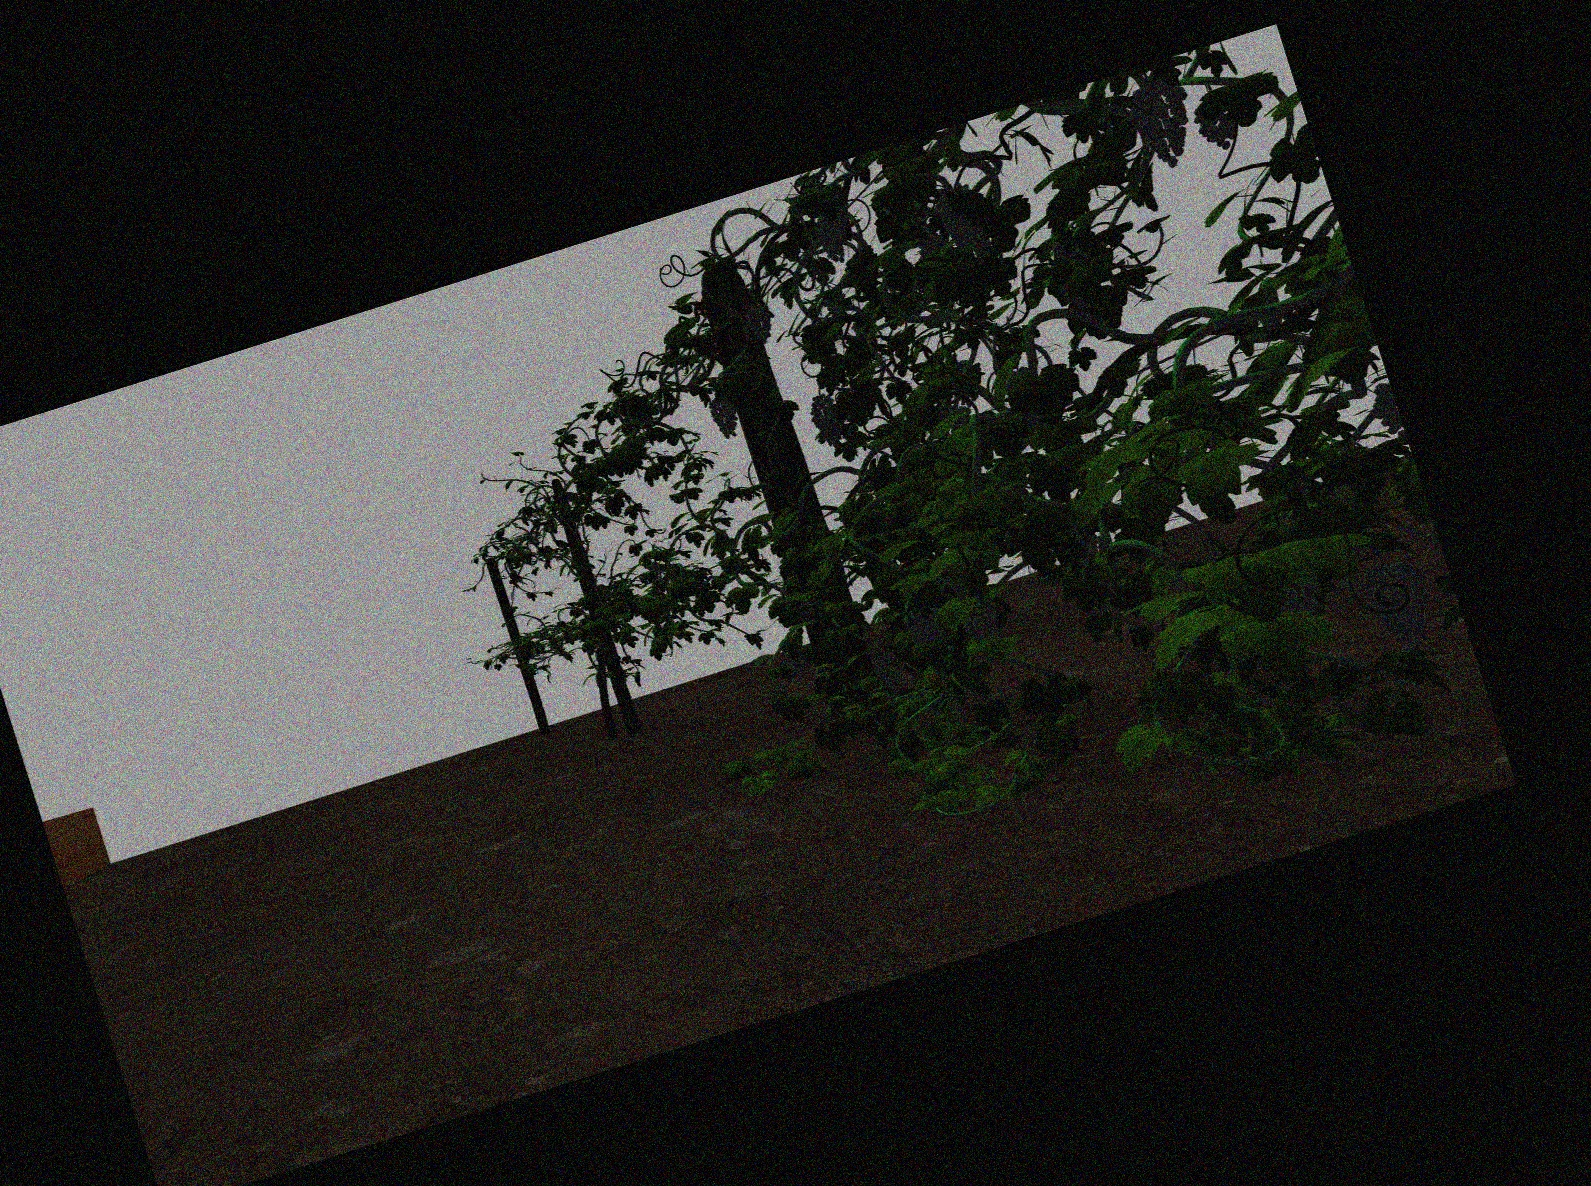grape: (1365, 564, 1432, 648), (1135, 76, 1194, 168), (937, 182, 987, 267), (814, 201, 856, 264), (961, 598, 1000, 647), (811, 394, 842, 448), (909, 605, 944, 652), (876, 654, 905, 700), (711, 392, 738, 440), (748, 301, 774, 348), (780, 648, 806, 681)
